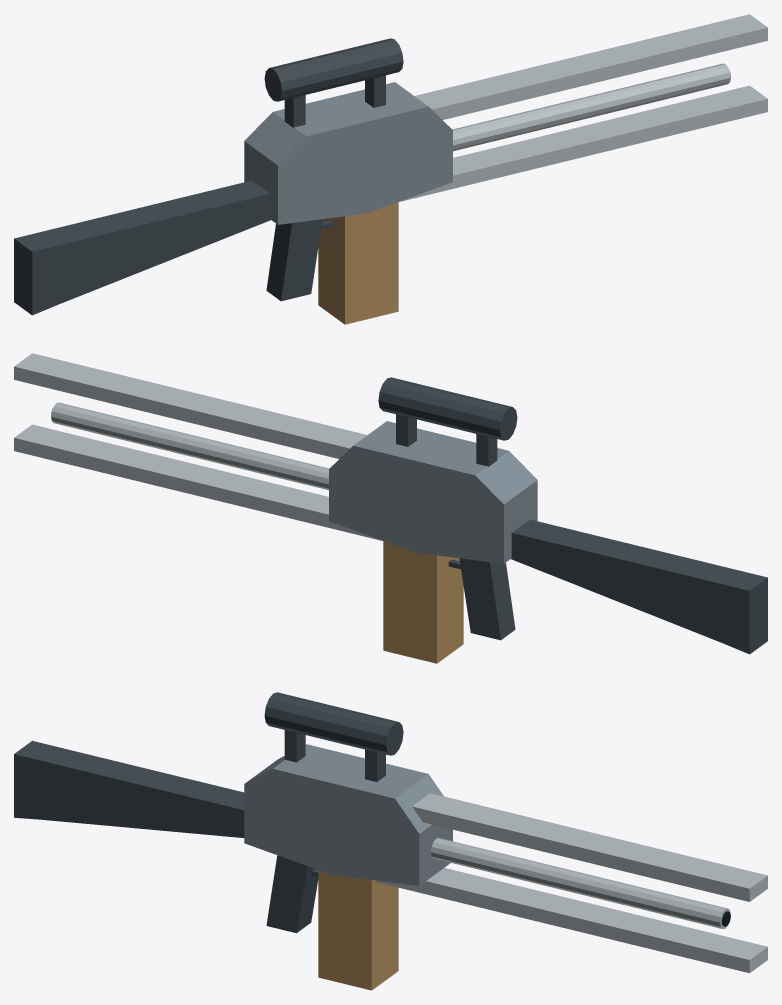
Rendered from w12-longwake.glb.
3 views of the same model, one above another, from view 1: azimuth 30°, elevation 25°; view 2: azimuth 150°, elevation 25°; view 3: azimuth 330°, elevation 25° (orthographic).
Parts seen in each view (by area): view 1: w12-longwake__receiver, w12-longwake__stock, w12-longwake__accelerator_rail_0.11, w12-longwake__accelerator_rail_-0.03, w12-longwake__power_cell, w12-longwake__barrel, w12-longwake__scope, w12-longwake__grip, w12-longwake__scope_mount_-0.14, w12-longwake__scope_mount_0.025; view 2: w12-longwake__receiver, w12-longwake__stock, w12-longwake__accelerator_rail_0.11, w12-longwake__accelerator_rail_-0.03, w12-longwake__power_cell, w12-longwake__barrel, w12-longwake__scope, w12-longwake__grip, w12-longwake__scope_mount_-0.14, w12-longwake__scope_mount_0.025; view 3: w12-longwake__receiver, w12-longwake__stock, w12-longwake__accelerator_rail_0.11, w12-longwake__accelerator_rail_-0.03, w12-longwake__power_cell, w12-longwake__barrel, w12-longwake__scope, w12-longwake__grip, w12-longwake__scope_mount_-0.14, w12-longwake__scope_mount_0.025.
Boxes of the visible parts, box(x1,y1,x2,y2) form: w12-longwake__receiver: box(244, 82, 452, 224); w12-longwake__stock: box(14, 180, 270, 315); w12-longwake__accelerator_rail_0.11: box(414, 14, 767, 119); w12-longwake__accelerator_rail_-0.03: box(399, 85, 767, 201); w12-longwake__power_cell: box(318, 202, 398, 324); w12-longwake__barrel: box(452, 63, 730, 151); w12-longwake__scope: box(264, 38, 403, 101); w12-longwake__grip: box(266, 219, 322, 301); w12-longwake__scope_mount_-0.14: box(284, 95, 305, 127); w12-longwake__scope_mount_0.025: box(365, 75, 385, 107); w12-longwake__receiver: box(329, 421, 537, 563); w12-longwake__stock: box(511, 519, 767, 654); w12-longwake__accelerator_rail_0.11: box(14, 353, 367, 458); w12-longwake__accelerator_rail_-0.03: box(14, 424, 382, 540); w12-longwake__power_cell: box(383, 541, 463, 663); w12-longwake__barrel: box(51, 402, 329, 490); w12-longwake__scope: box(378, 377, 517, 440); w12-longwake__grip: box(459, 558, 515, 640); w12-longwake__scope_mount_-0.14: box(476, 434, 497, 466); w12-longwake__scope_mount_0.025: box(396, 414, 416, 446); w12-longwake__receiver: box(244, 744, 452, 885); w12-longwake__stock: box(14, 740, 244, 837); w12-longwake__accelerator_rail_0.11: box(412, 793, 767, 901); w12-longwake__accelerator_rail_-0.03: box(376, 868, 767, 973); w12-longwake__power_cell: box(318, 870, 398, 990); w12-longwake__barrel: box(431, 838, 730, 928); w12-longwake__scope: box(264, 692, 403, 755); w12-longwake__grip: box(266, 855, 318, 933); w12-longwake__scope_mount_-0.14: box(284, 730, 305, 762); w12-longwake__scope_mount_0.025: box(365, 749, 385, 781).
Bounding box in the file's own units: 1.51 × 0.511 × 0.12.
